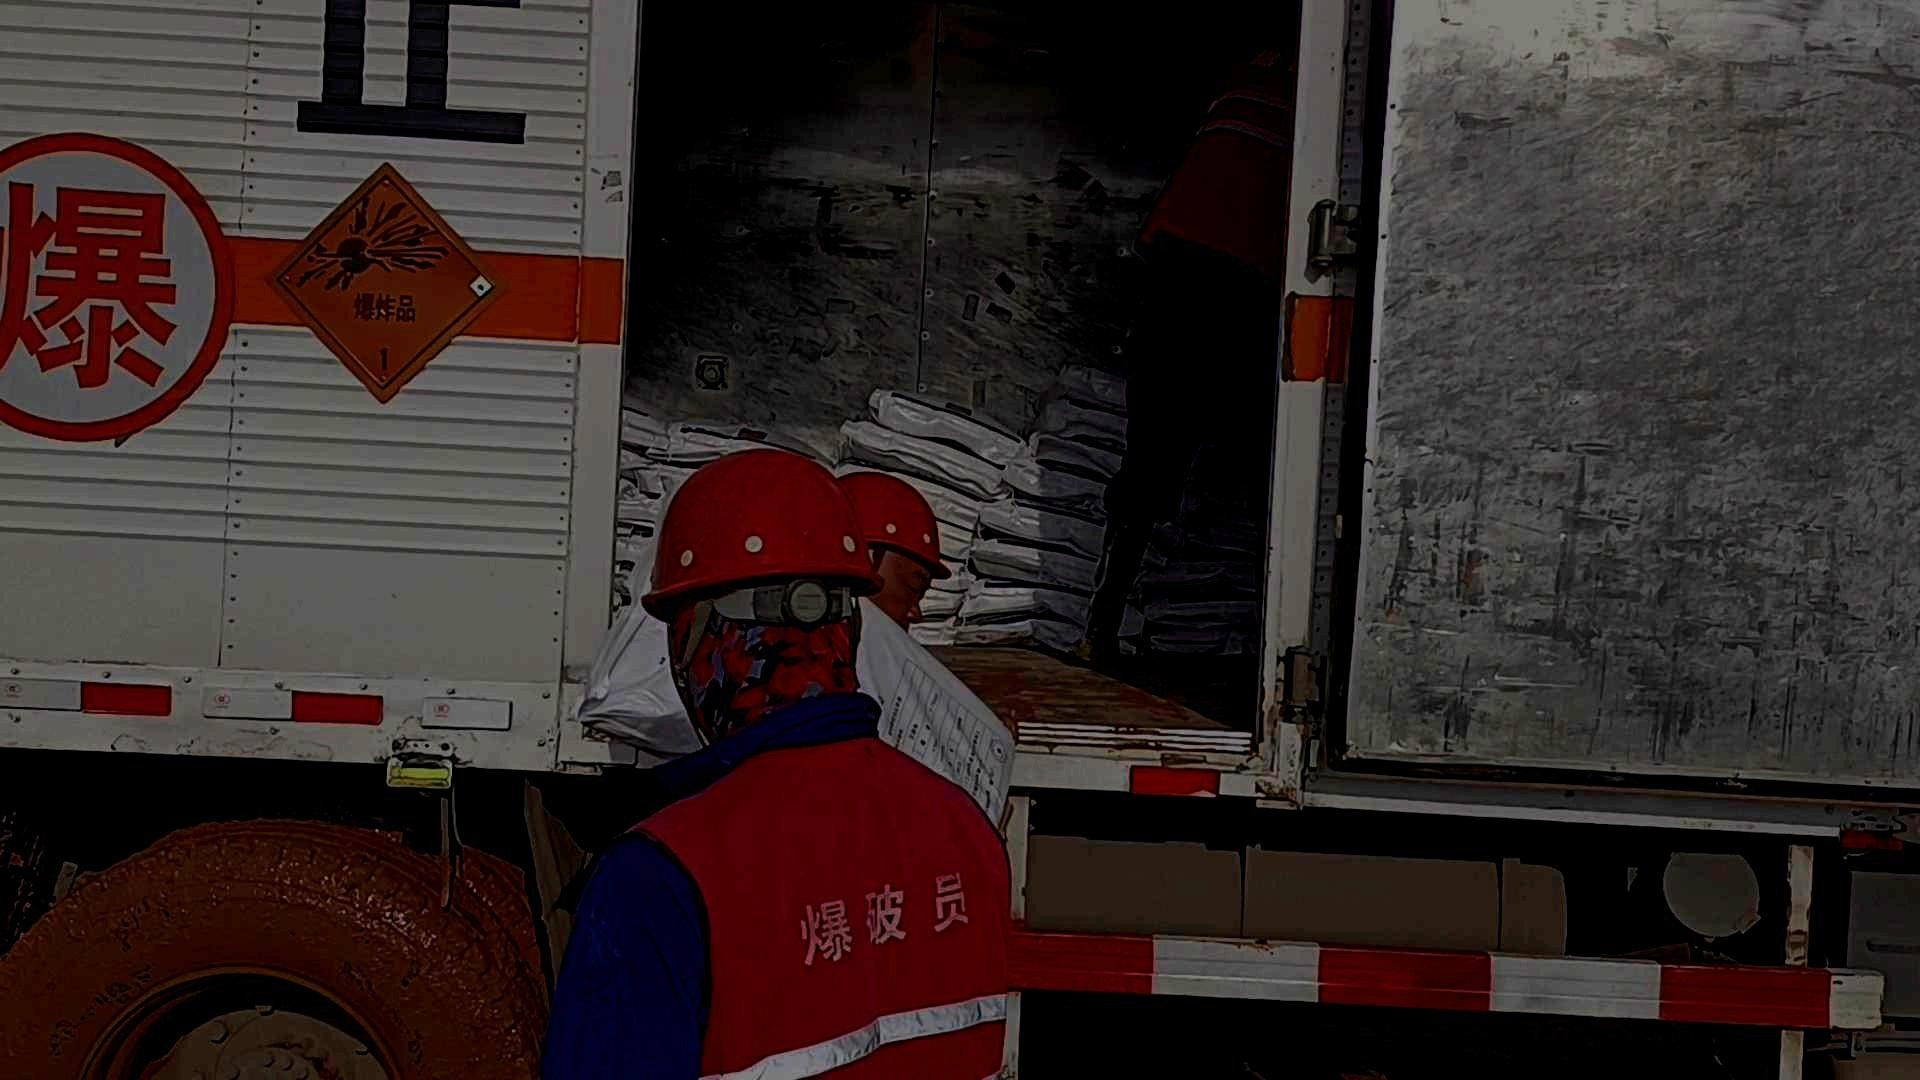helmet: (640, 448, 885, 745), (833, 471, 952, 636)
